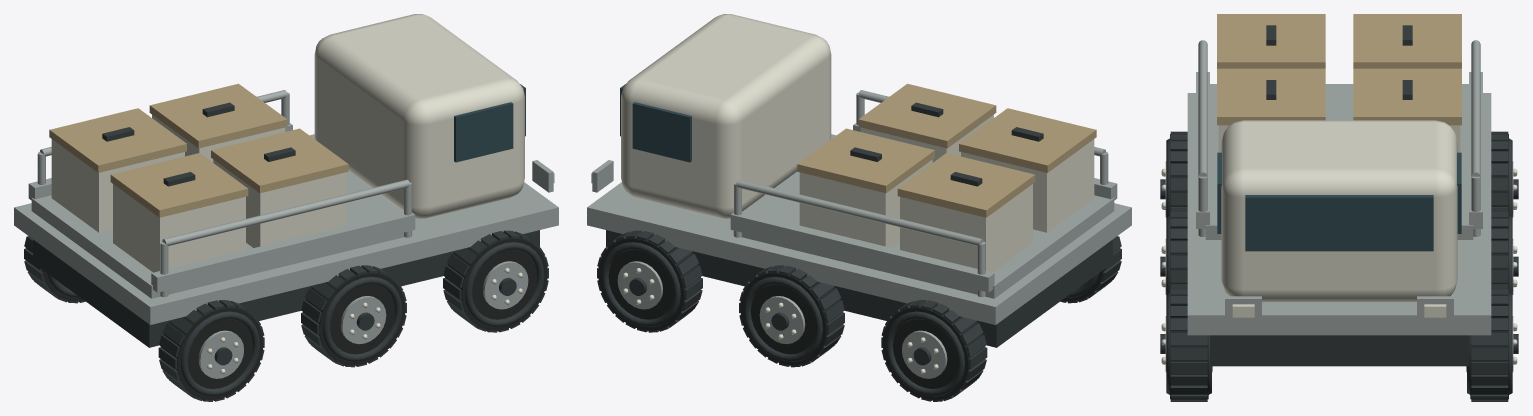
The model's file is cargo-carrier.glb.
3 views of the same model, side by side, from view 1: azimuth 30°, elevation 25°; view 2: azimuth 150°, elevation 25°; view 3: azimuth 270°, elevation 25° (orthographic). The views are drawn at different scales.
Visible parts, largest first — view 1: ivory, metal, dark, ochre, tire, glass; view 2: ivory, metal, dark, ochre, tire, glass; view 3: ivory, metal, dark, ochre, glass, tire.
Boxes of the visible parts, x1,y1,x2,y2 form: ivory: (51, 14, 554, 374); metal: (14, 90, 558, 378); dark: (24, 102, 548, 401); ochre: (49, 83, 348, 217); tire: (25, 235, 547, 400); glass: (454, 84, 525, 162); ivory: (591, 14, 1094, 374); metal: (587, 90, 1131, 378); dark: (597, 102, 1121, 401); ochre: (797, 83, 1096, 217); tire: (598, 235, 1120, 400); glass: (620, 84, 691, 162); ivory: (1161, 120, 1517, 364); metal: (1165, 40, 1513, 372); dark: (1160, 25, 1518, 401); ochre: (1217, 14, 1461, 125); glass: (1217, 152, 1461, 251); tire: (1170, 134, 1508, 399).
Bounding box in the file's own units: 2.96 × 1.47 × 1.94.
